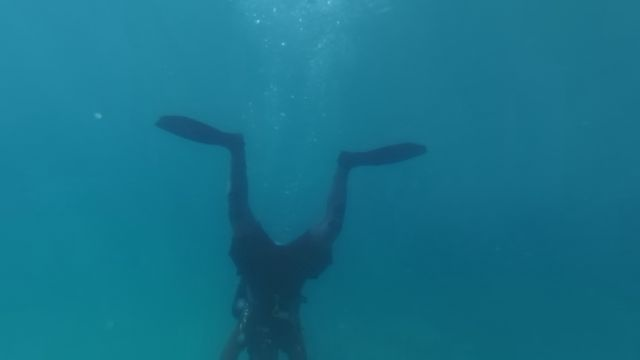Diver: (149, 108, 423, 356)
